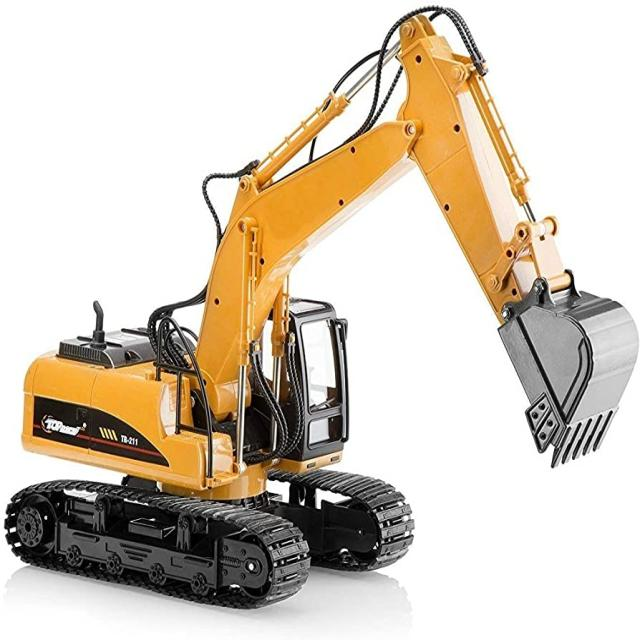excavator: (5, 5, 634, 616)
